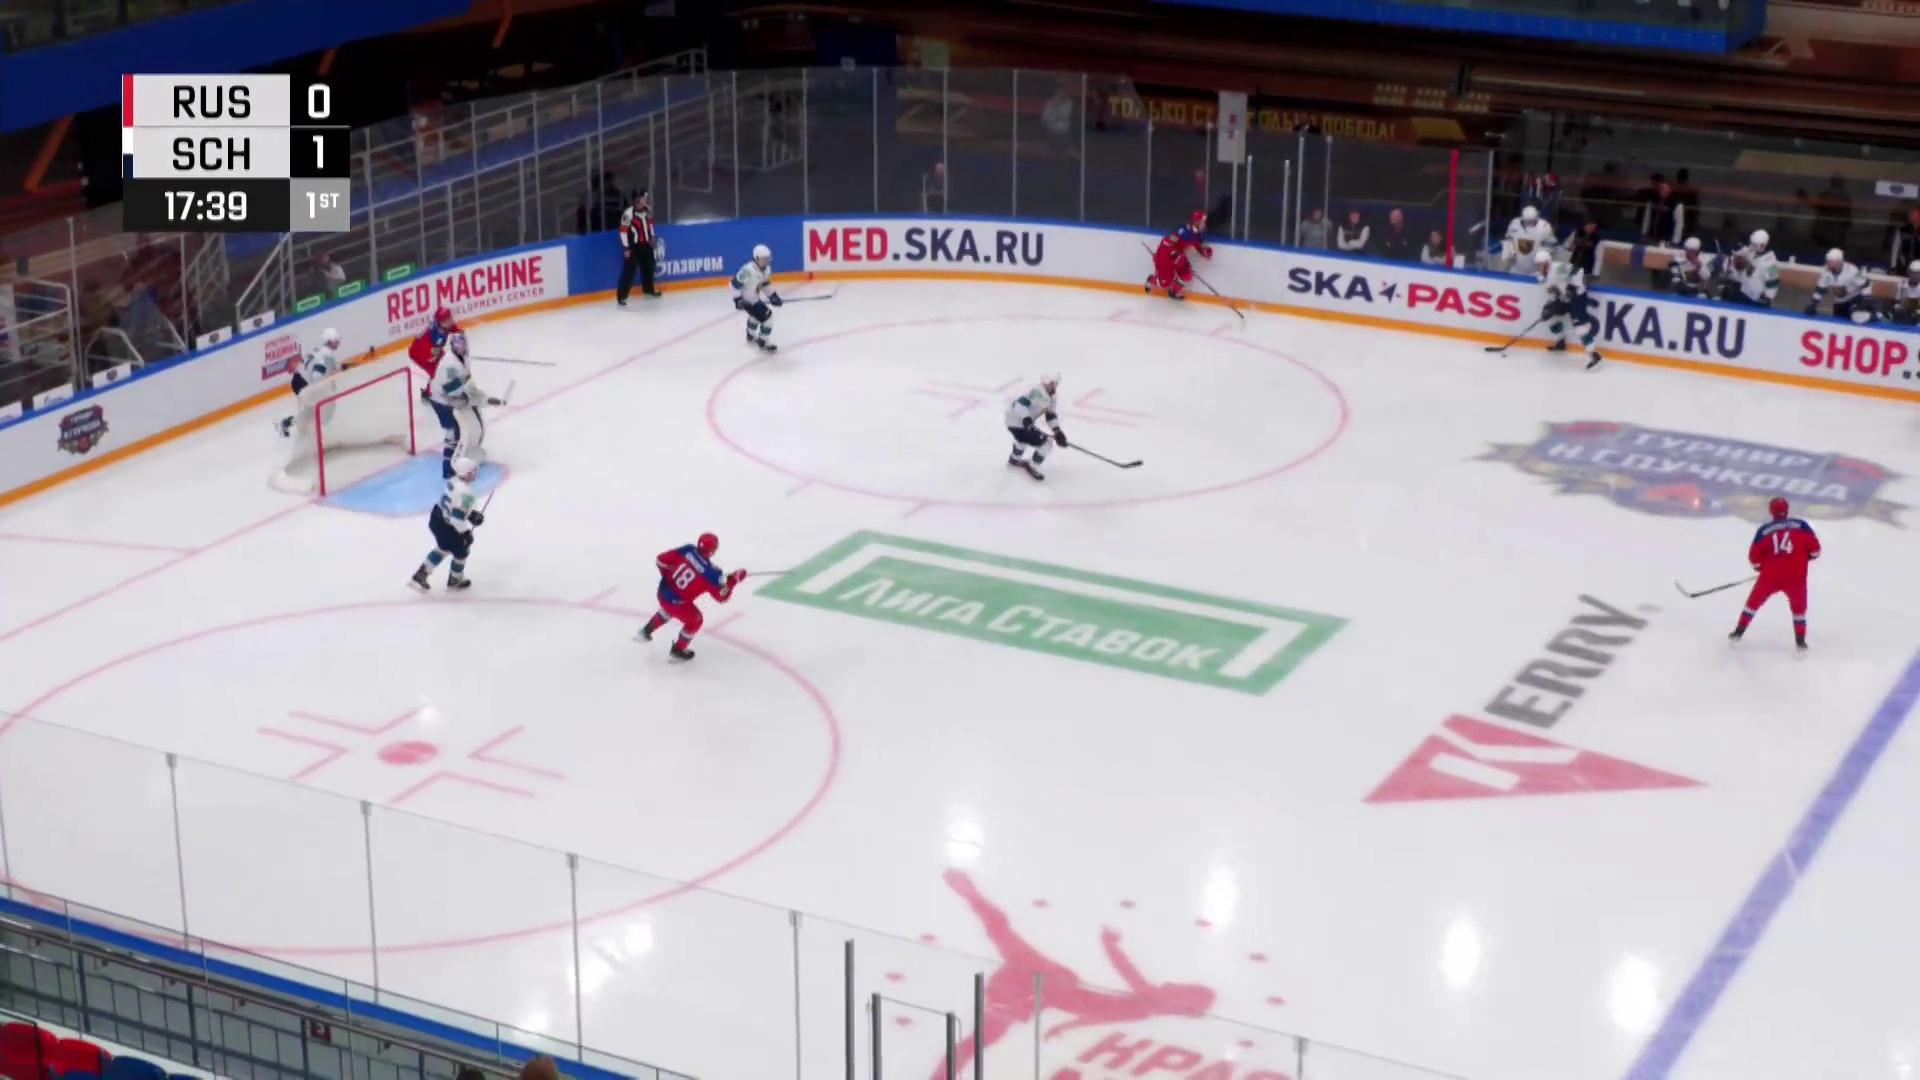ball: (1501, 353, 1509, 359)
